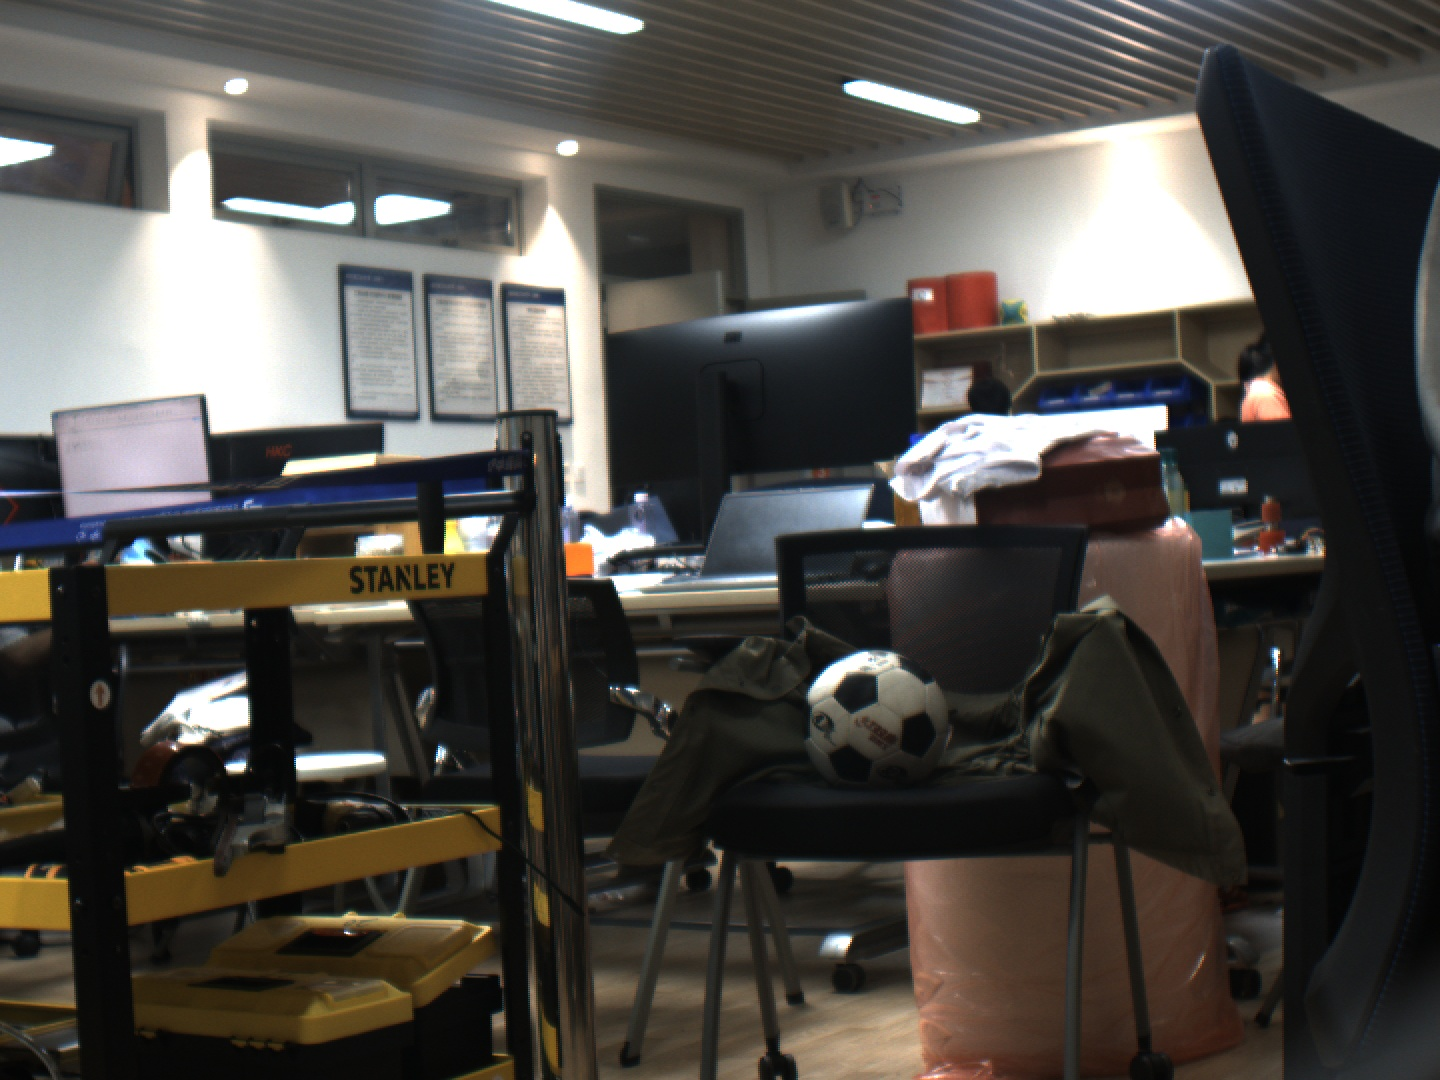ball: (791, 633, 960, 794)
